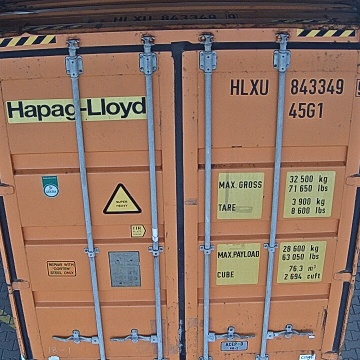serial_id: (231, 79, 360, 95)
